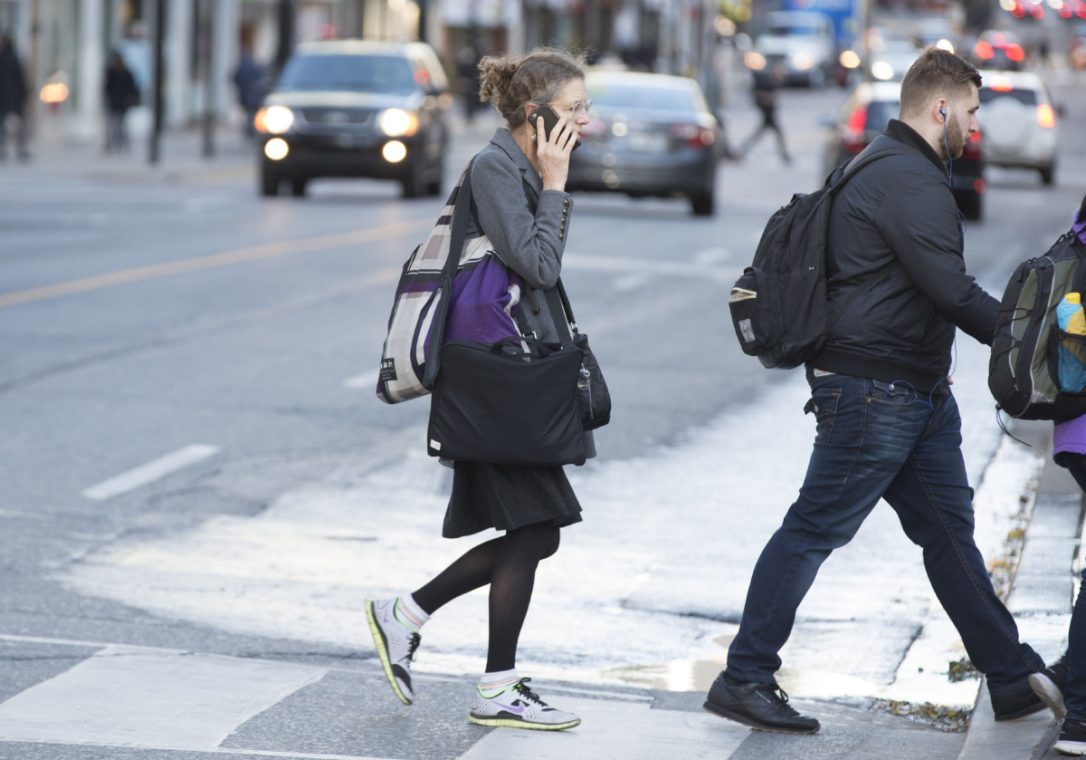pedestrian: (666, 46, 1077, 723), (341, 40, 623, 739)
